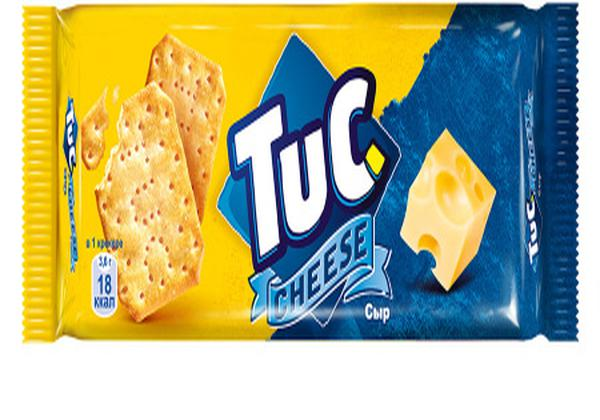crackers tuc: (37, 9, 573, 338)
